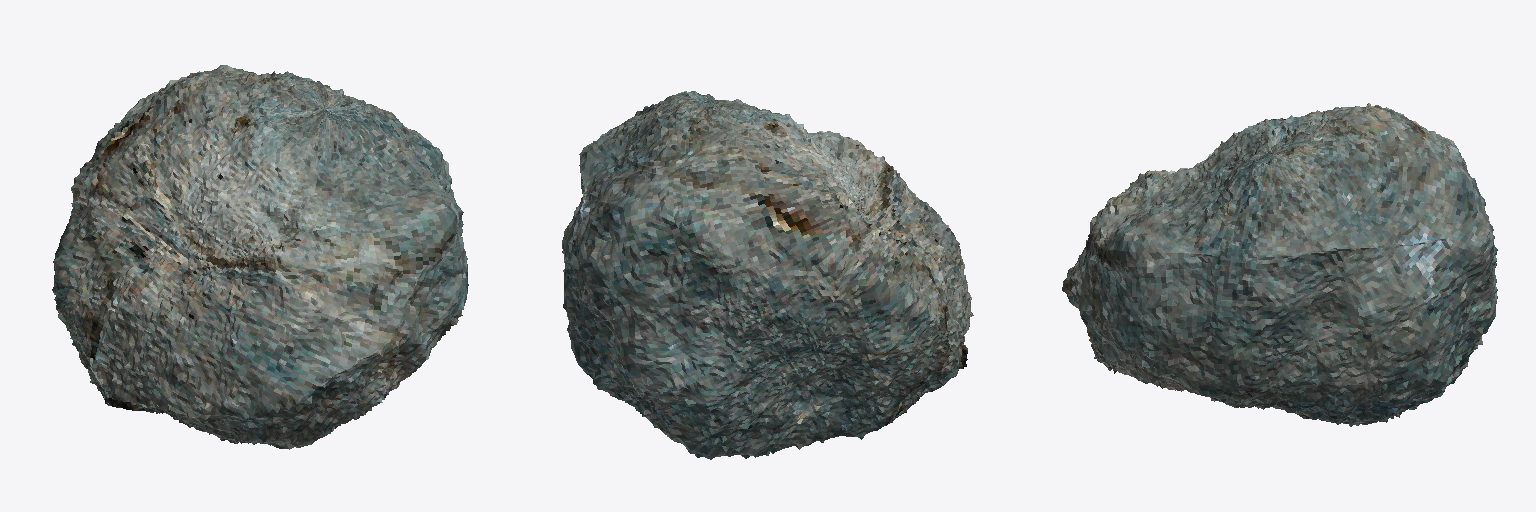
3 renders of one model, left to right at view 1: azimuth 30°, elevation 25°; view 2: azimuth 150°, elevation 25°; view 3: azimuth 270°, elevation 25°, orthographic.
Parts seen in each view (by area): view 1: Cube.001; view 2: Cube.001; view 3: Cube.001.
Boxes of the visible parts, x1,y1,x2,y2 form: Cube.001: [52, 65, 468, 449]; Cube.001: [562, 91, 973, 459]; Cube.001: [1062, 103, 1497, 426].
Size of the model in its own units: 0.2082 by 0.1654 by 0.2188.
1 materials, 1 textured.